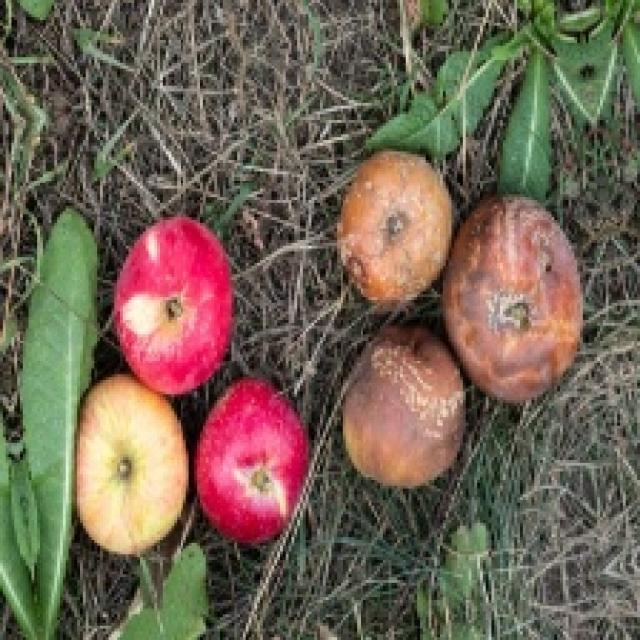apple: (441, 196, 581, 402), (113, 217, 232, 395), (77, 374, 188, 554), (344, 325, 463, 486), (195, 378, 308, 543), (338, 151, 451, 303)
